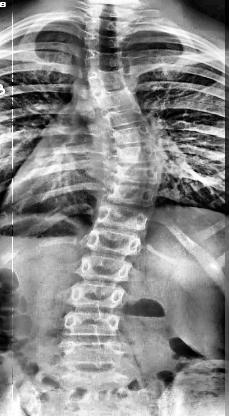Vertebrae: (66, 280, 130, 312), (84, 224, 144, 258), (74, 252, 134, 284), (99, 180, 159, 210), (94, 203, 152, 234), (104, 158, 166, 186), (80, 66, 136, 94), (80, 26, 134, 54), (63, 312, 126, 336), (104, 140, 162, 166), (92, 84, 142, 114), (80, 46, 134, 72), (98, 104, 148, 130), (108, 122, 156, 148)
